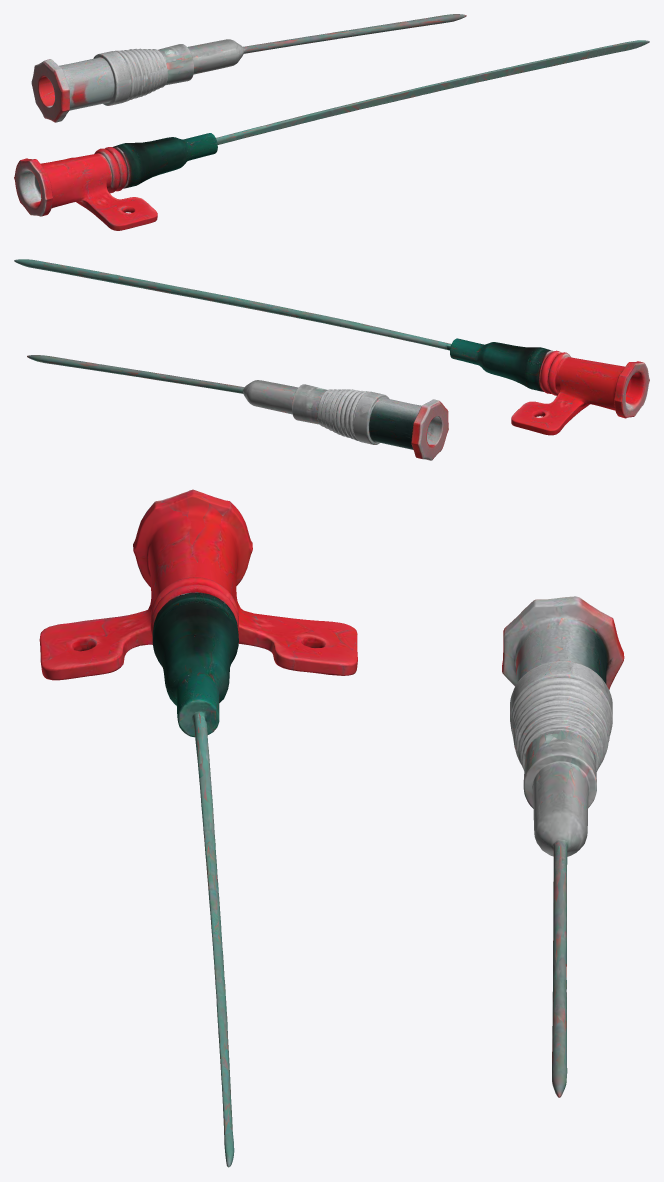
File: ARTLINE.glb
The picture shows the model from 3 angles, top to bottom: view 1: azimuth 30°, elevation 25°; view 2: azimuth 150°, elevation 25°; view 3: azimuth 270°, elevation 25°; orthographic projection. The views are drawn at different scales.
Bounding box in the file's own units: 1.9 × 0.1636 × 0.7851.
Materials: 1 (1 with a texture image).
